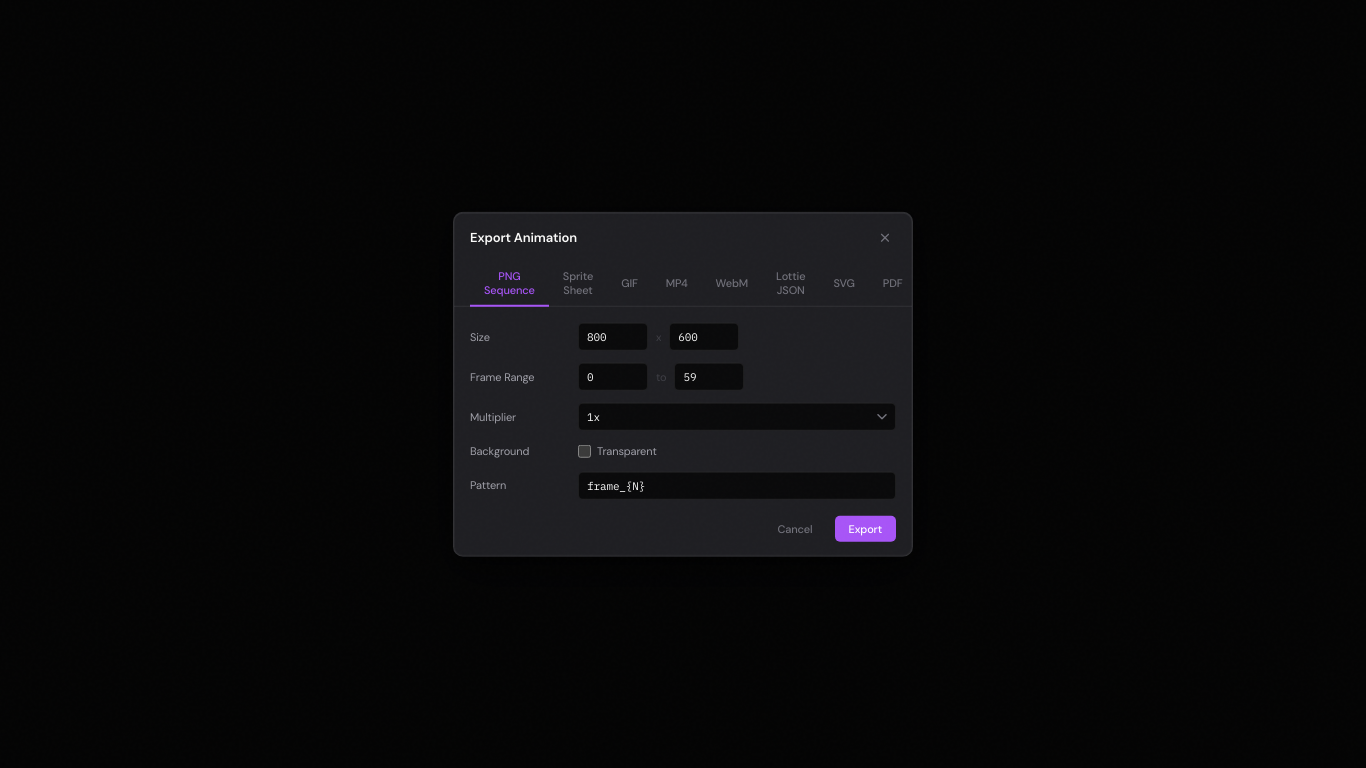
Test case: ExportDialog › video layers › names each video a PNG sequence couldn’t decode
Replace the text in the number field with test id "export-end-frame" with "1": (709, 377) [674,363,744,391]
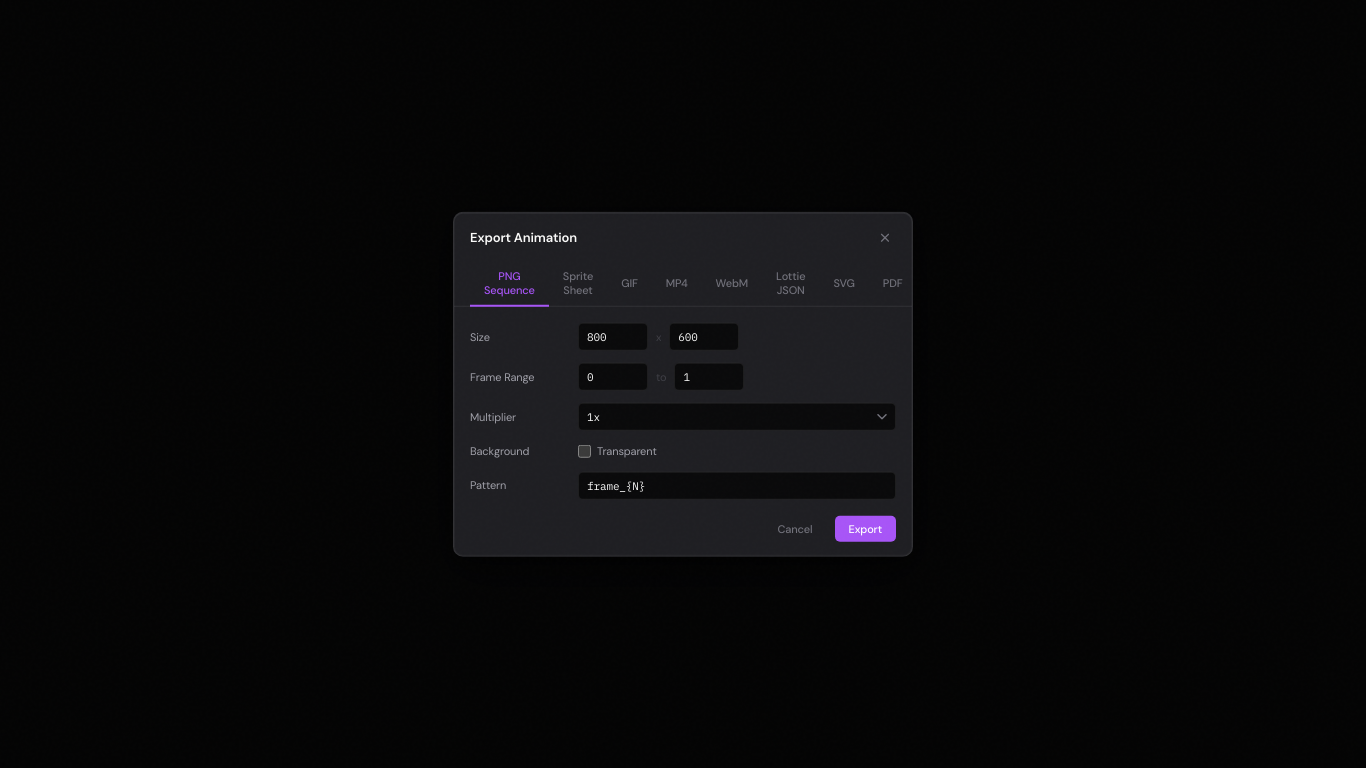
Click the button with test id "export-dialog-export": (865, 528) [834,515,896,541]
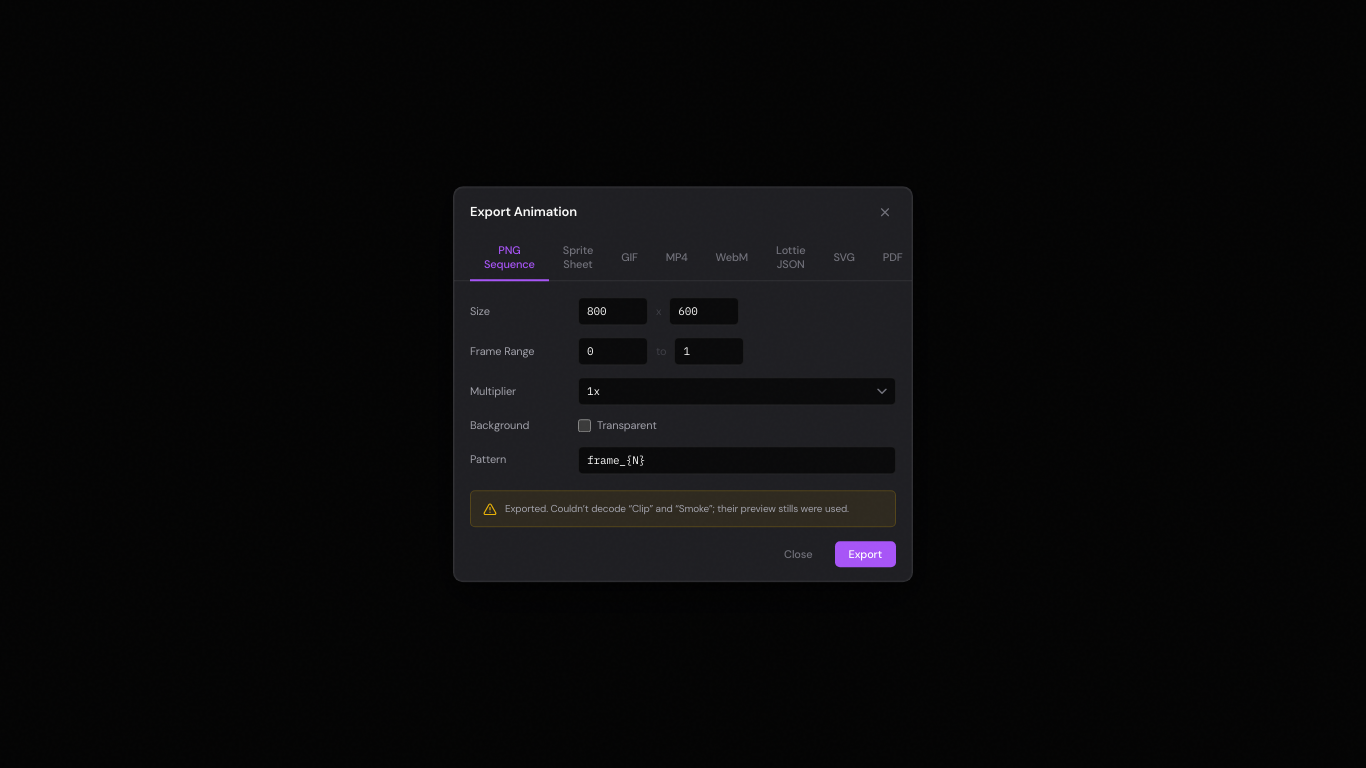
expect the message with test id "export-video-problems" reads "Exported. Couldn’t decode “Clip” and “Smoke”; their preview stills were used.": met, box [505,502,849,515]
